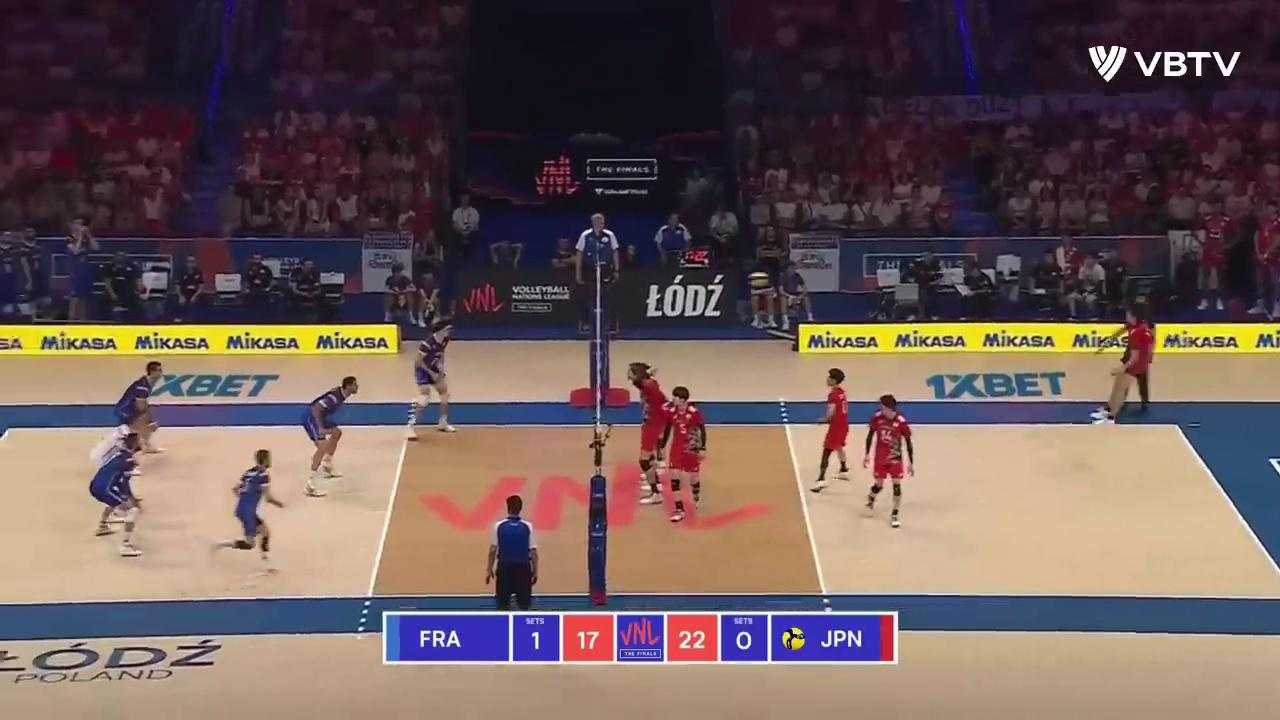ball: (749, 273, 767, 288)
